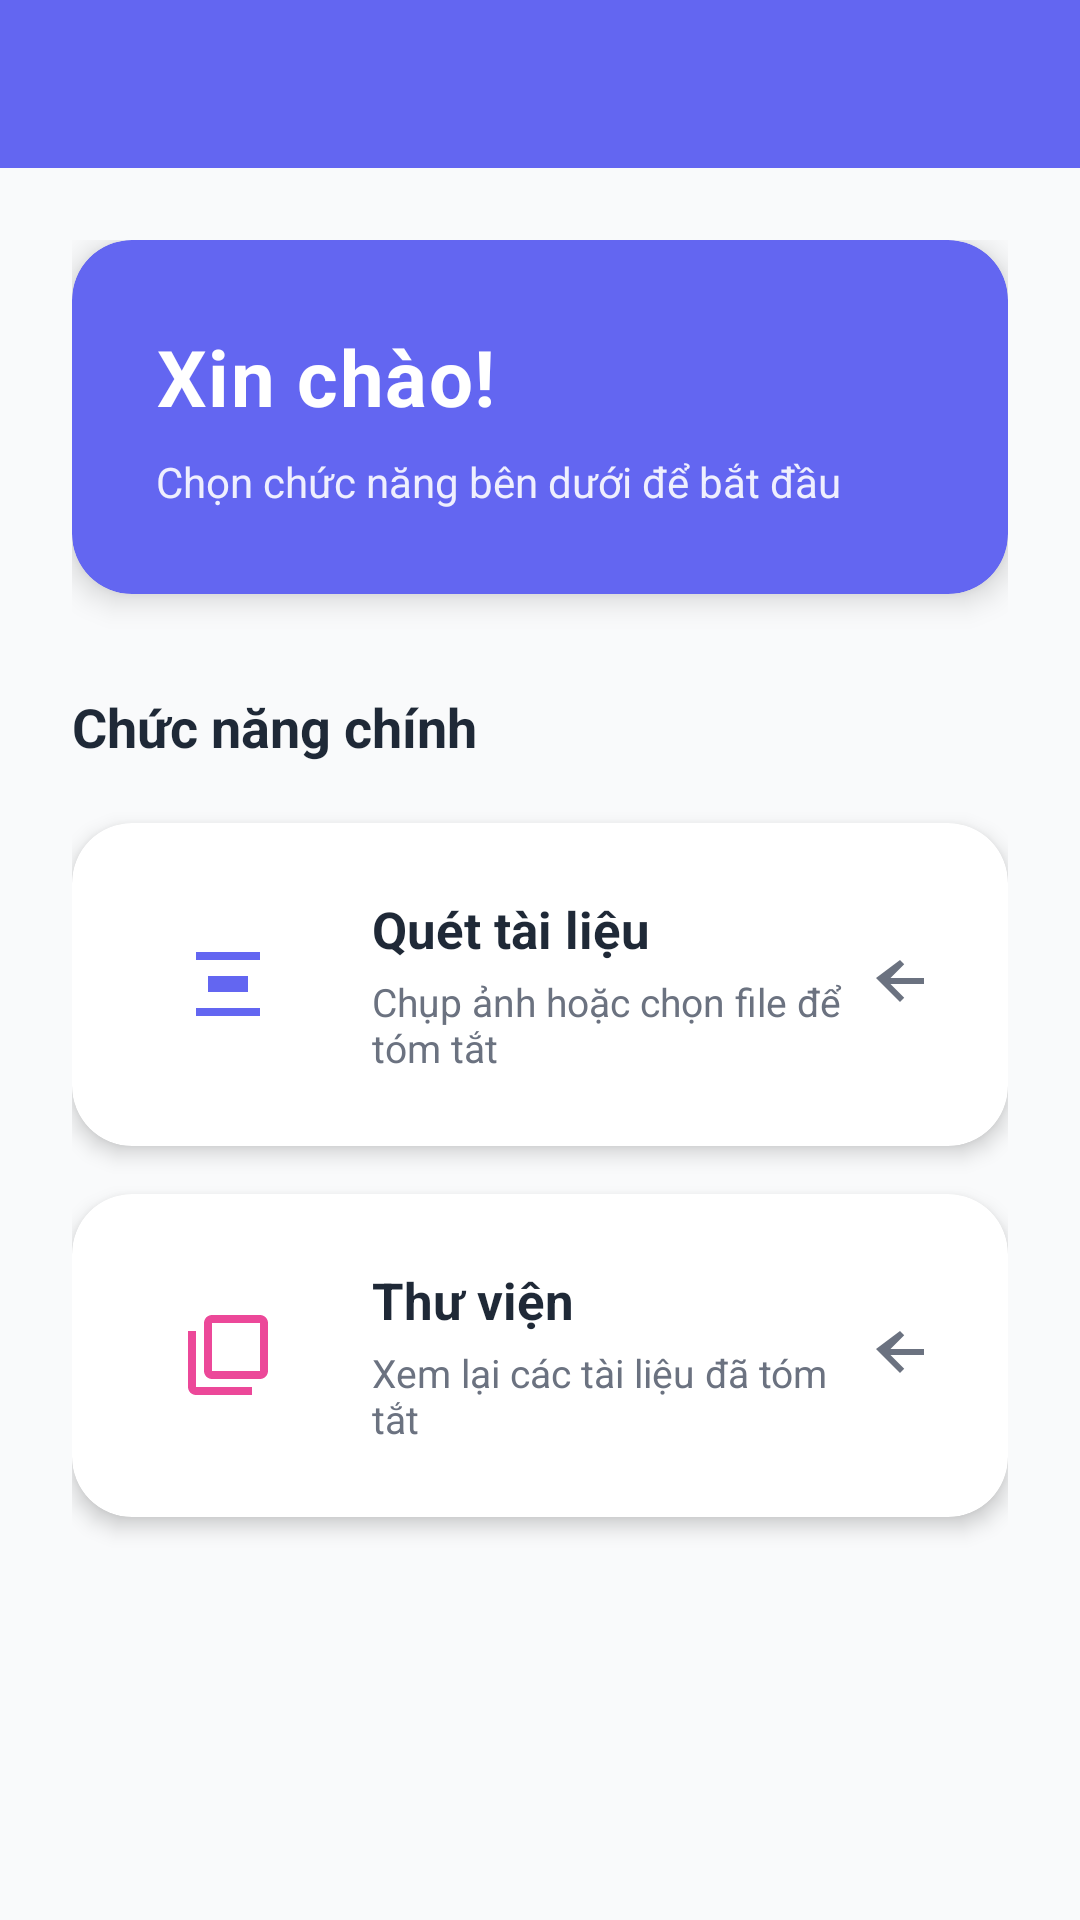

Screen size 1080px×1920px. Icon name, then its center in pixels as (x,y):
Arrow: (900,981), (900,1352)
Library icon: (228,1355)
